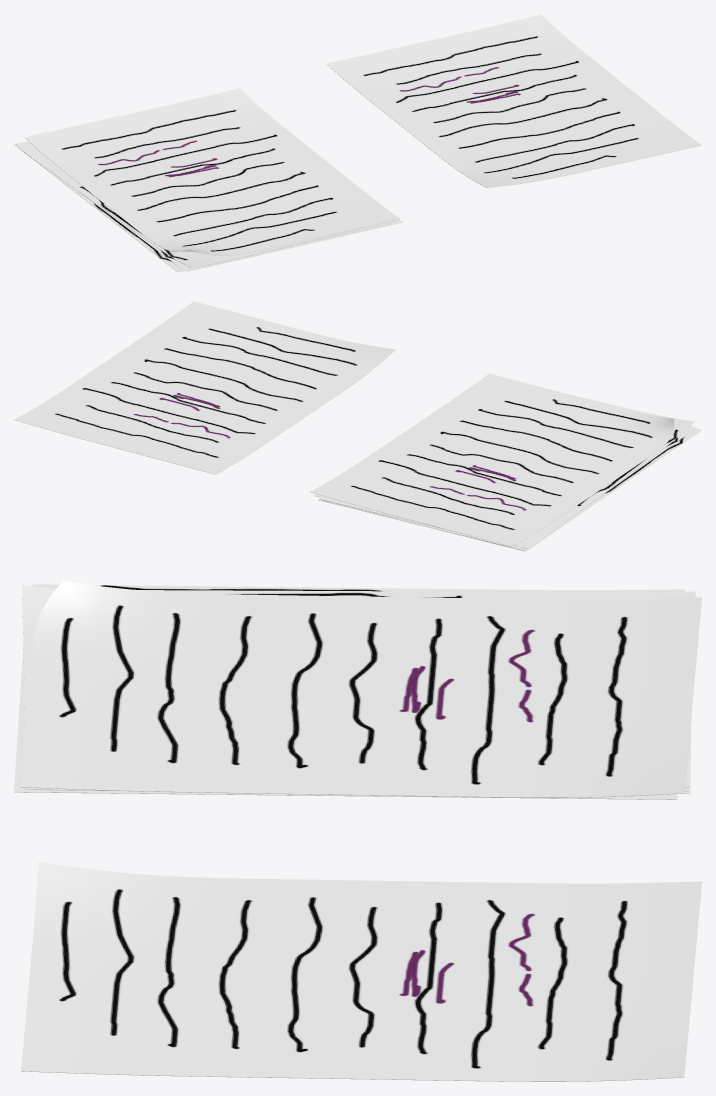
The model's file is kağıt.fbx.
3 views of the same model, one above another, from view 1: azimuth 30°, elevation 25°; view 2: azimuth 150°, elevation 25°; view 3: azimuth 270°, elevation 25° (orthographic). The views are drawn at different scales.
Parts seen in each view (by area): view 1: Plane.008, Plane.003, Plane.002, Plane.005, Plane.006, Plane.001; view 2: Plane.008, Plane.003, Plane.002, Plane.005, Plane.006; view 3: Plane.008, Plane.003, Plane.002, Plane.001, Plane.005.
Boxes of the visible parts, left/top/right/bottom form: Plane.008: left=326, top=14, right=701, bottom=187; Plane.003: left=24, top=88, right=399, bottom=255; Plane.002: left=16, top=142, right=399, bottom=267; Plane.005: left=14, top=141, right=391, bottom=272; Plane.006: left=16, top=141, right=396, bottom=270; Plane.001: left=188, top=219, right=402, bottom=271; Plane.008: left=14, top=301, right=395, bottom=474; Plane.003: left=310, top=373, right=674, bottom=546; Plane.002: left=321, top=375, right=694, bottom=549; Plane.005: left=465, top=428, right=701, bottom=551; Plane.006: left=319, top=426, right=696, bottom=550; Plane.008: left=21, top=862, right=701, bottom=1081; Plane.003: left=21, top=580, right=701, bottom=797; Plane.002: left=22, top=585, right=690, bottom=790; Plane.001: left=14, top=648, right=677, bottom=799; Plane.005: left=19, top=584, right=695, bottom=782.
Bounding box in the file's own units: 53.06 × 1.22 × 30.79.
Materials: 1 (1 with a texture image).
